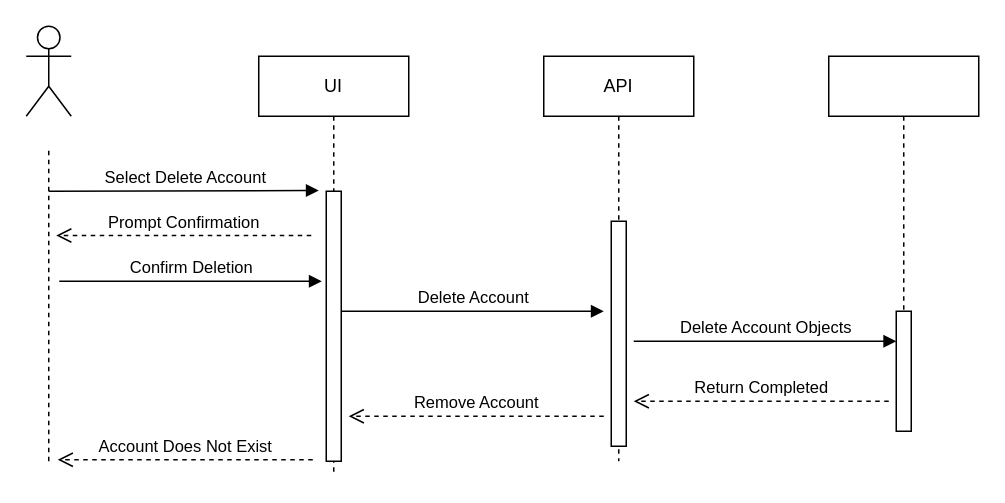
Some shapes in this 1005 by 503 pixel diagram are drawn without their labels. The shapes that lost their labels are listed below. From the top down, each one's box as (x1, y1, x2, y2) in pixels, then its label:
(25, 25, 71, 116): User
(827, 55, 979, 431): Database
